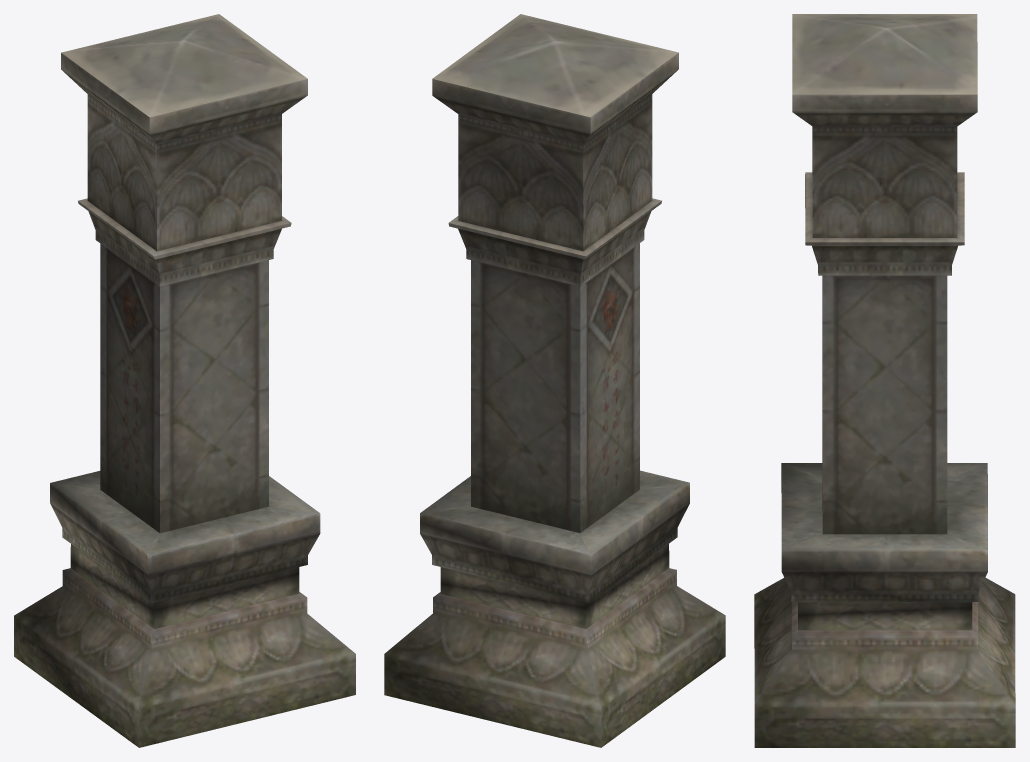
Rendered from zshh_zhuzi_01.FBX.
3 renders of one model, left to right at view 1: azimuth 30°, elevation 25°; view 2: azimuth 150°, elevation 25°; view 3: azimuth 270°, elevation 25°, orthographic. The views are drawn at different scales.
Parts seen in each view (by area): view 1: zshh_zhuzi_01; view 2: zshh_zhuzi_01; view 3: zshh_zhuzi_01.
Part boxes in pixels (bbox=[...]): zshh_zhuzi_01: bbox=[14, 14, 355, 747]; zshh_zhuzi_01: bbox=[384, 14, 725, 747]; zshh_zhuzi_01: bbox=[754, 14, 1015, 747].
Bounding box in the file's own units: 99.86 × 279 × 99.48.
